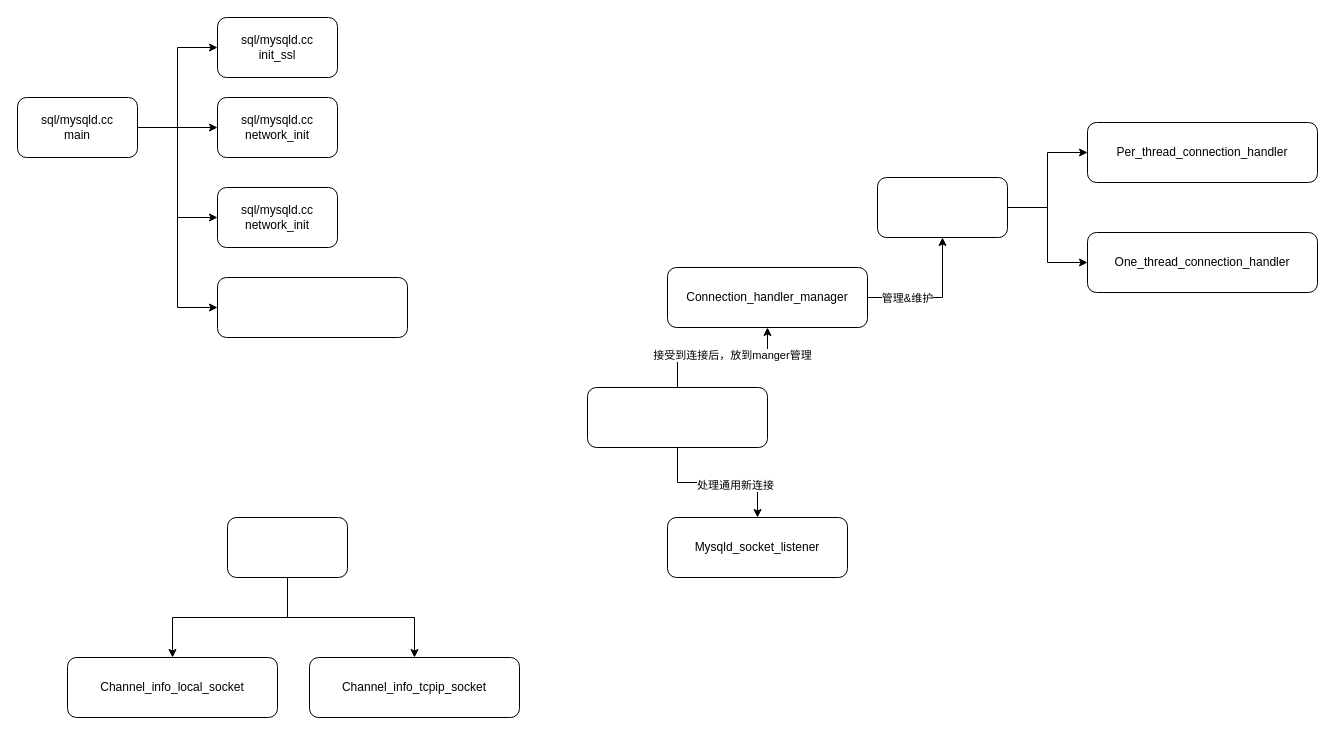
Image size: 1335x735. Some labels were removed from this diagram. The box of each missing label's shape, as (x1, y1, x2, y2) in pixels:
Channel_info: (226, 516, 348, 578)
Connection_acceptor<>: (586, 386, 768, 448)
Connection_handler: (876, 176, 1008, 238)
mysqld_socker_accepter ->connection_event_loop: (216, 276, 408, 338)
